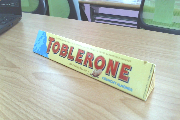Chocolate: (25, 26, 159, 113)
